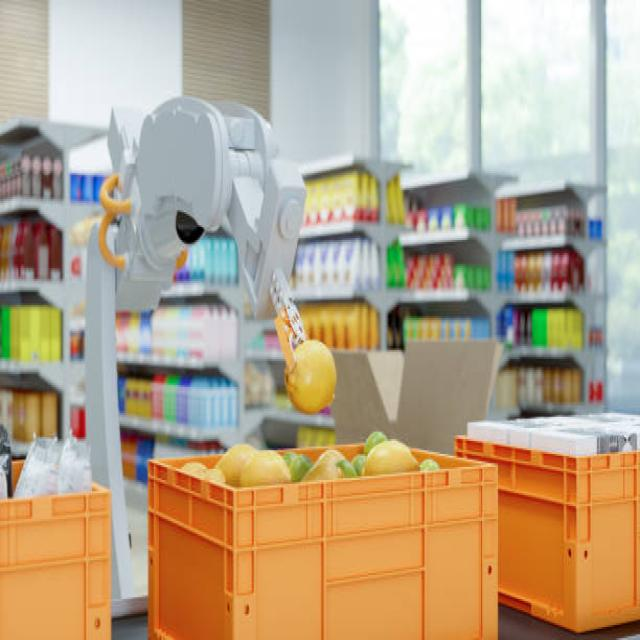Robotic-arm: (77, 79, 300, 635)
